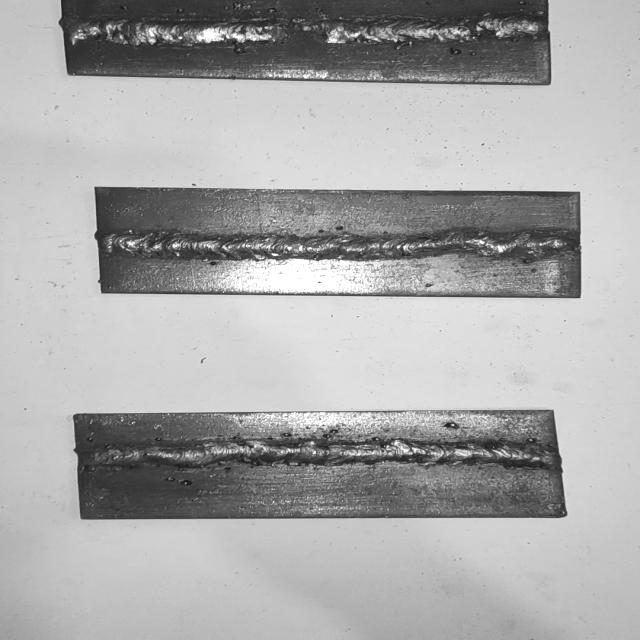Bad Weld: (66, 16, 544, 46)
Defect: (268, 10, 334, 50), (451, 12, 505, 48)
Good Weld: (104, 228, 571, 262), (80, 439, 556, 468)
